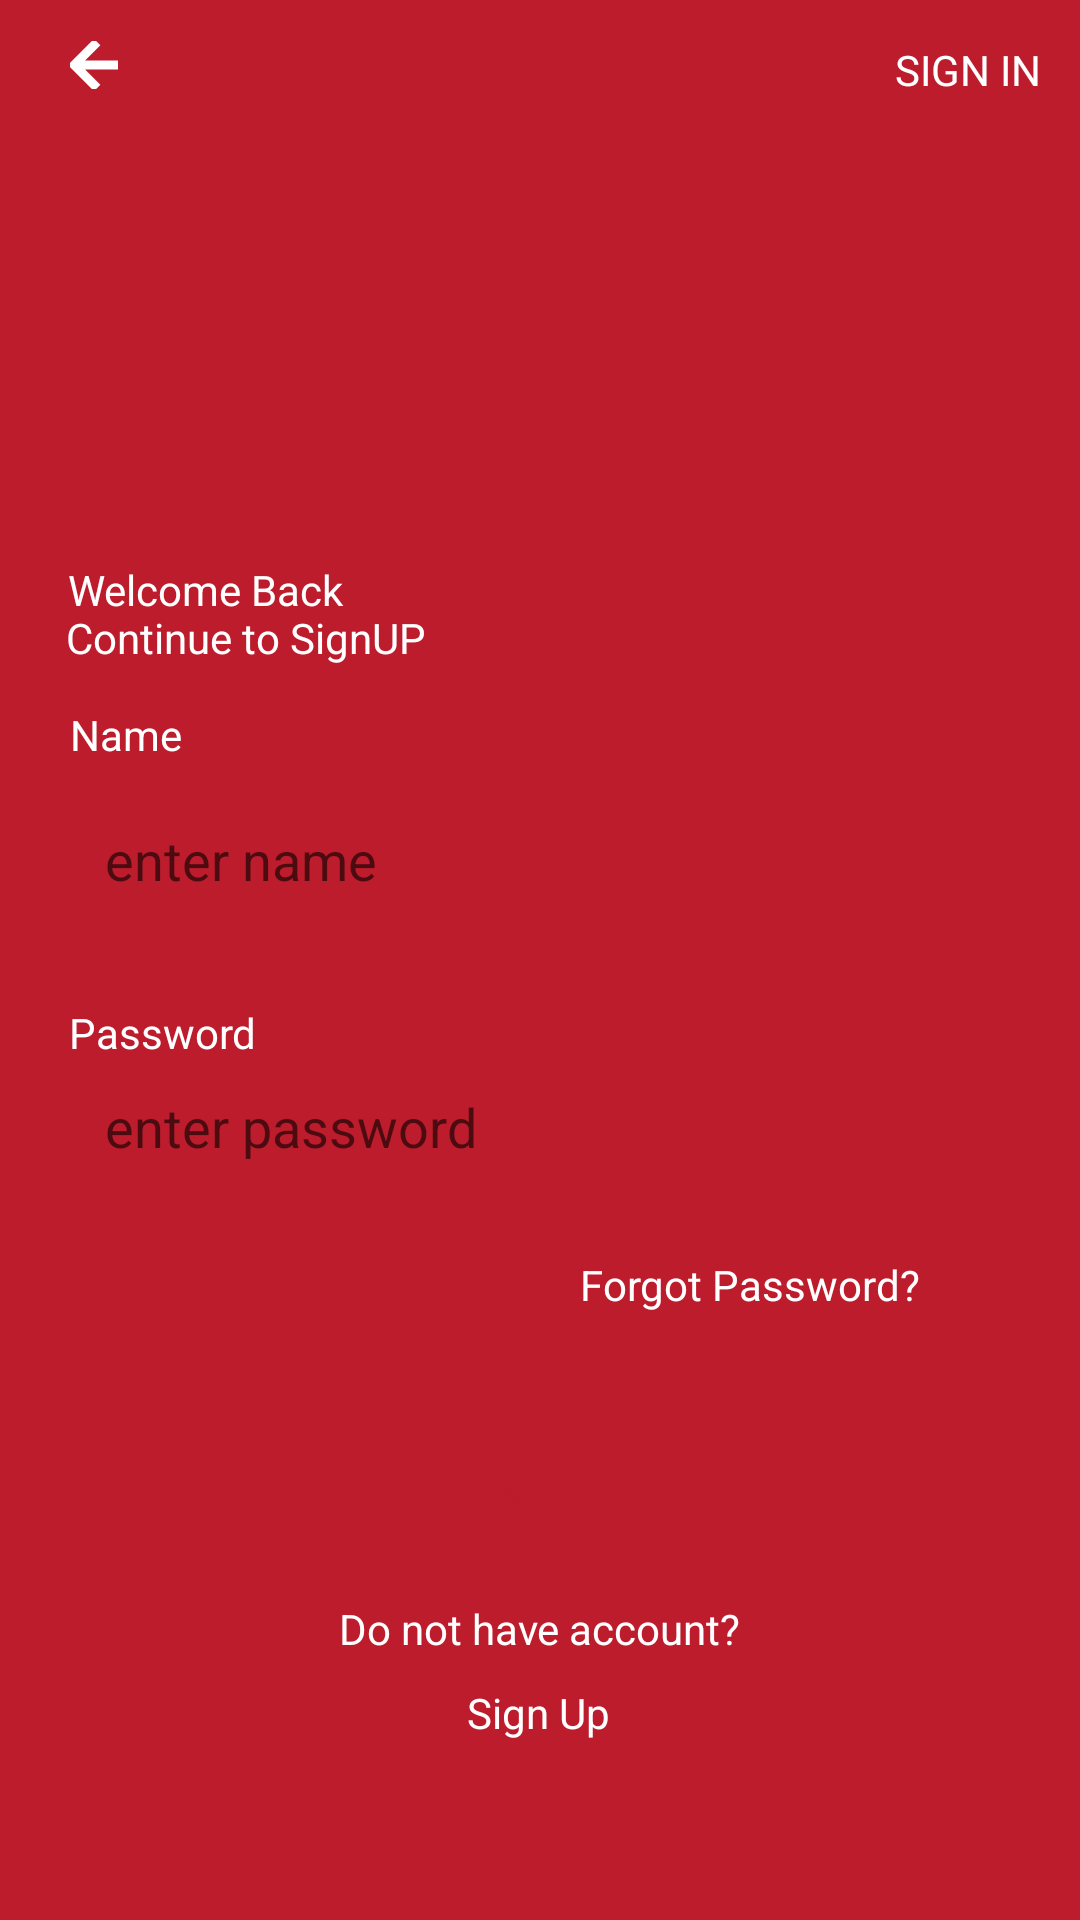

Named icons in this screenshot (1080px×1920px) and their centers, (x,y):
back: (94,65)
